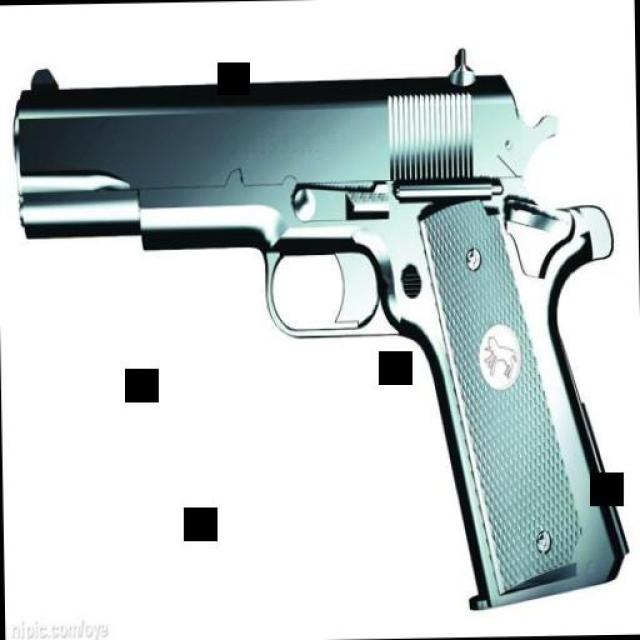gun: (10, 42, 629, 618)
